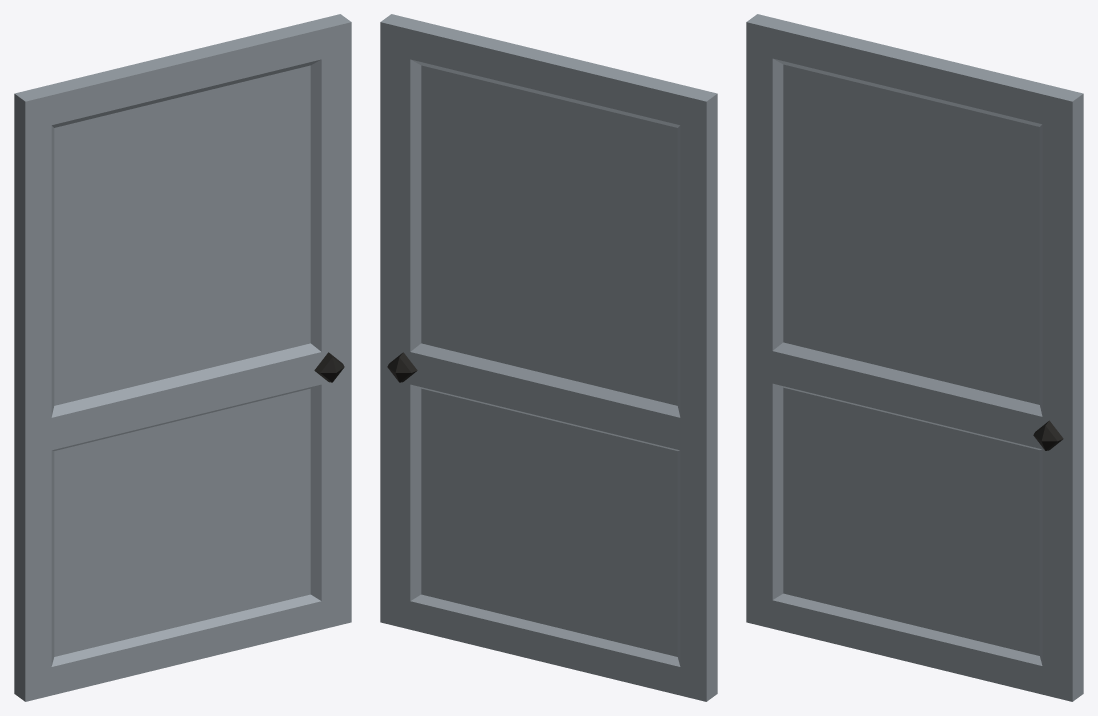
Rendered from Door_2A.fbx.
3 renders of one model, left to right at view 1: azimuth 30°, elevation 25°; view 2: azimuth 150°, elevation 25°; view 3: azimuth 330°, elevation 25°, orthographic.
Parts seen in each view (by area): view 1: polySurface1643; view 2: polySurface1643; view 3: polySurface1643.
Part boxes in pixels (x1,y1,x2,y2): polySurface1643: (14, 14, 351, 701); polySurface1643: (380, 14, 717, 701); polySurface1643: (746, 14, 1083, 701).
Bounding box in the file's own units: 1.7 × 2.99 × 0.243.
Materials: 1 (1 with a texture image).
